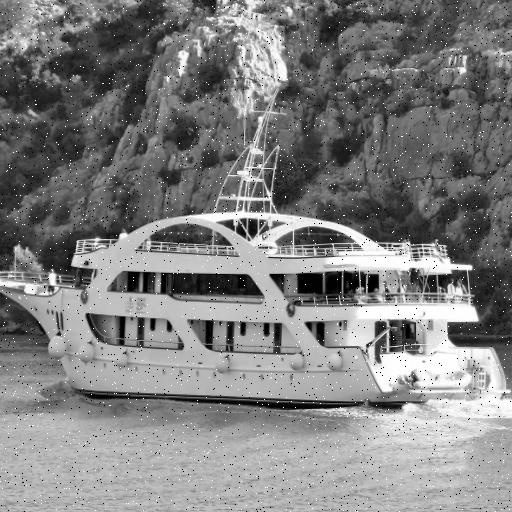cruises: (1, 189, 512, 418)
